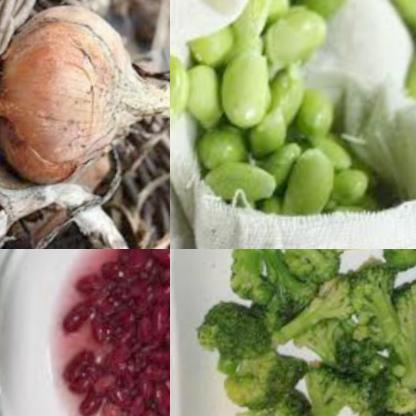beans: (181, 0, 416, 239), (52, 249, 170, 416), (361, 0, 416, 40), (170, 47, 191, 130)
broccoli: (183, 249, 416, 416)
onion: (2, 10, 147, 184)
